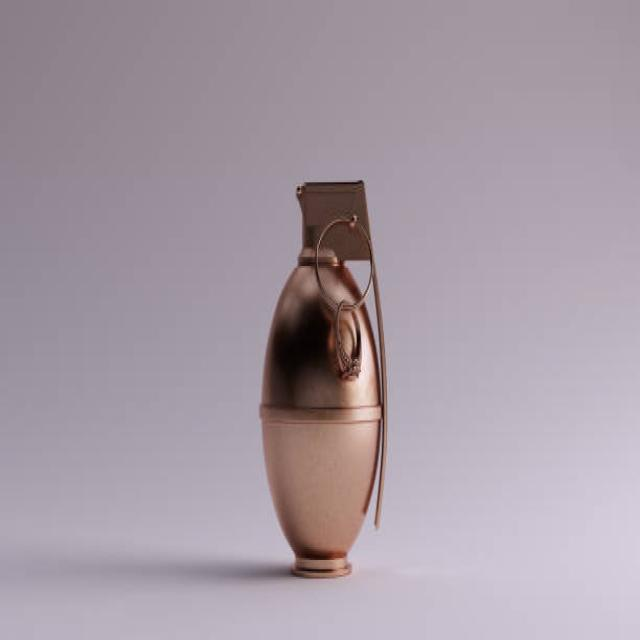grenade: (253, 163, 394, 588)
